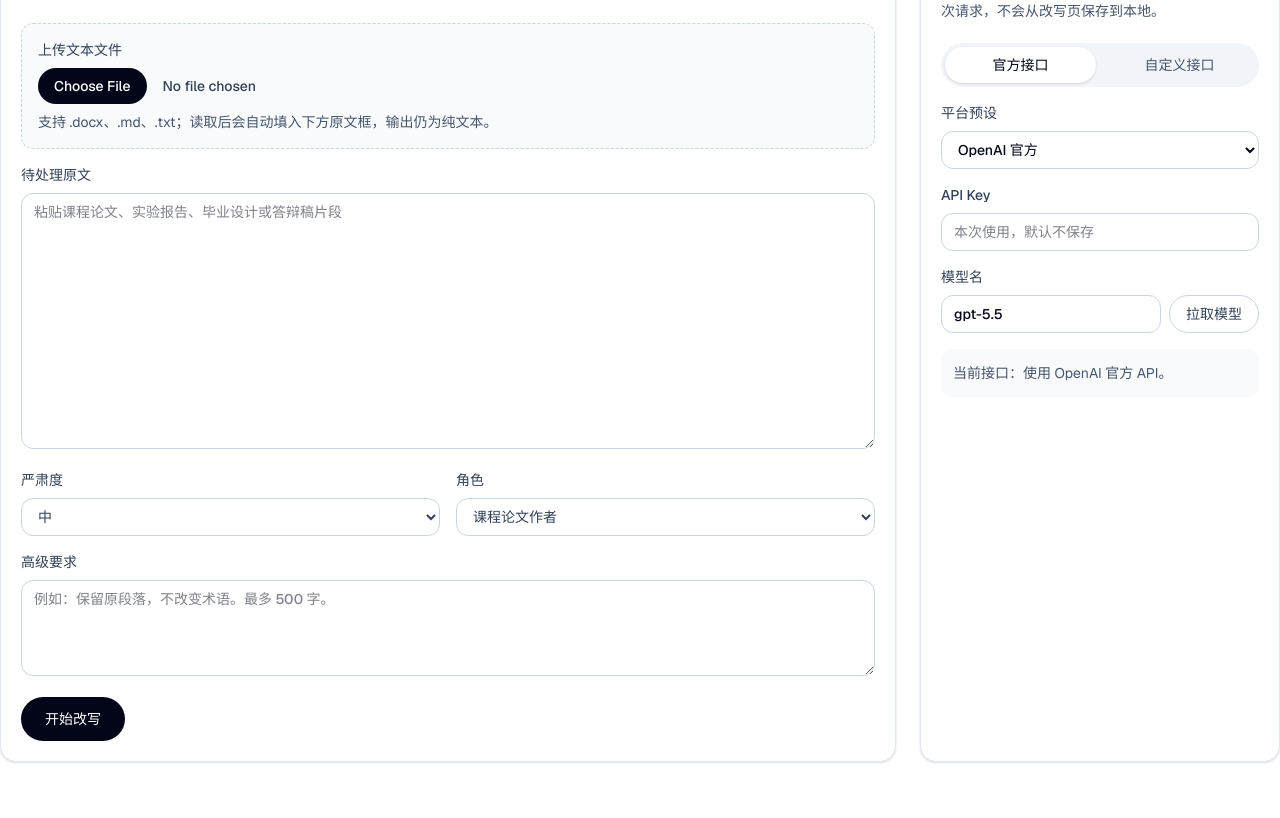
RewriteTool › displays parsed rewritten text after a successful rewrite
The width and height of the screenshot is (1280, 818).
Type "这是原文。" into the text box labelled "待处理原文".
click(448, 321); type("这是原文。")  # box top-left (21, 193), bottom-right (875, 449)
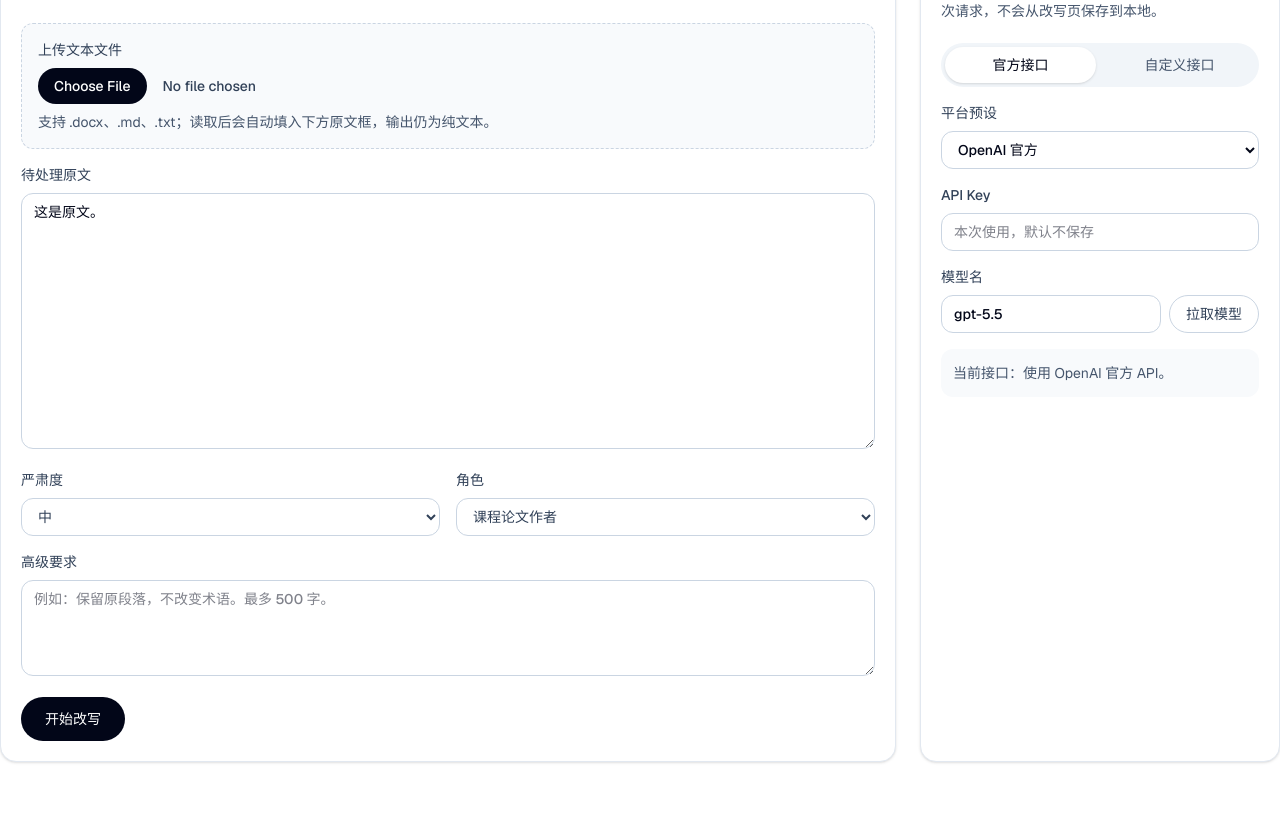
Click the button "开始改写".
click(73, 719)  # box top-left (21, 697), bottom-right (125, 741)
(page scrolled)
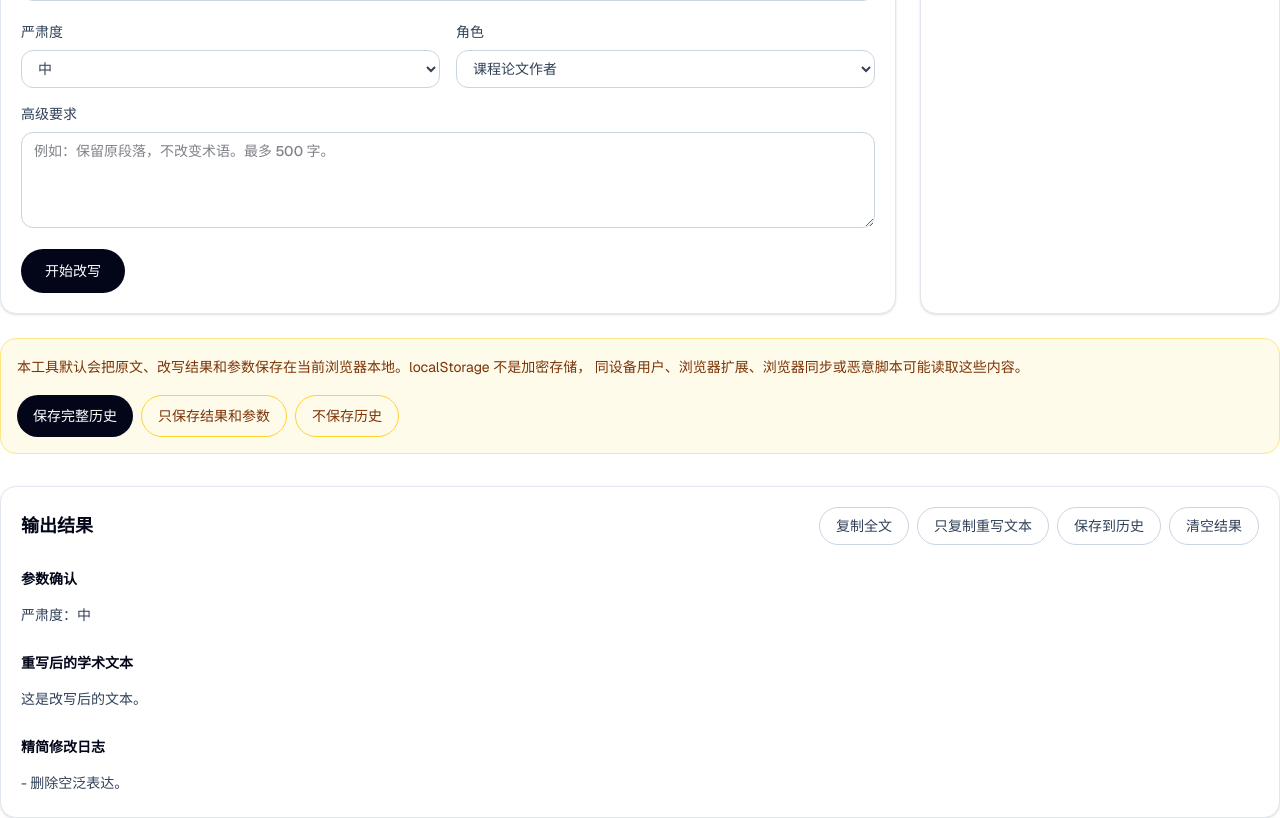
Check: the text "这是改写后的文本。" is shown, box top-left (21, 690), bottom-right (147, 708)
